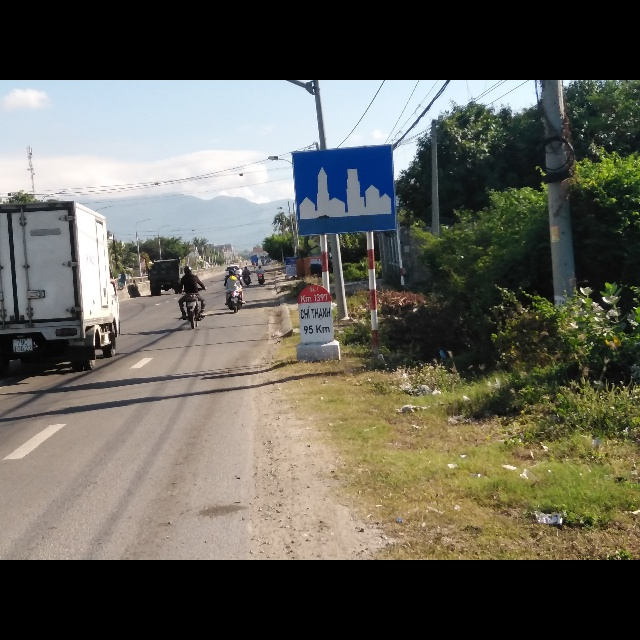Khu đông dân cư: (291, 146, 396, 233)
